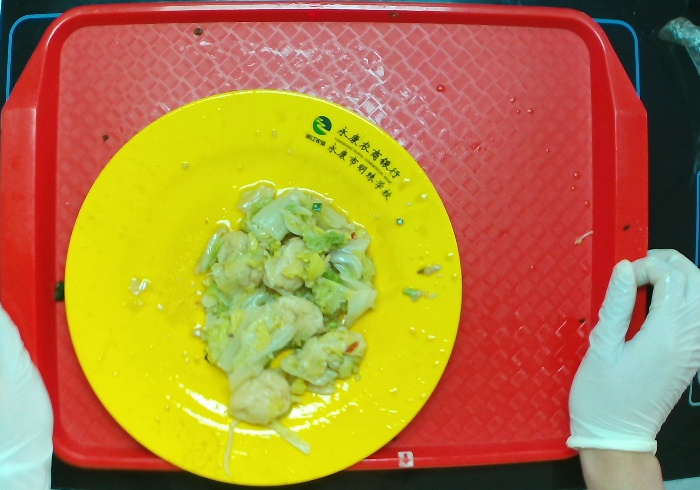YKMZ-Huang_Se_Mian_Pan: (64, 87, 463, 490)
